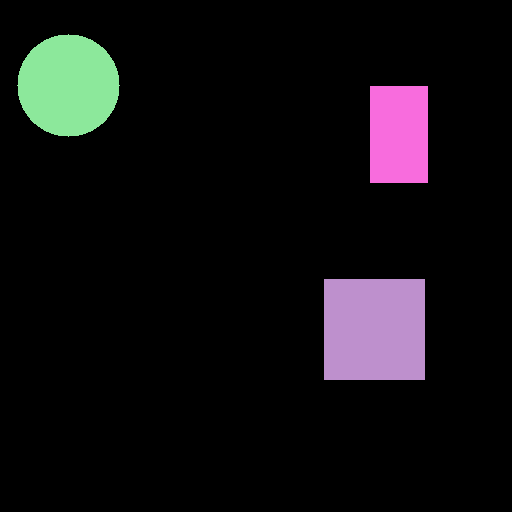circle: (17, 34, 119, 136)
rectangle: (370, 86, 427, 182)
square: (324, 279, 424, 379)
